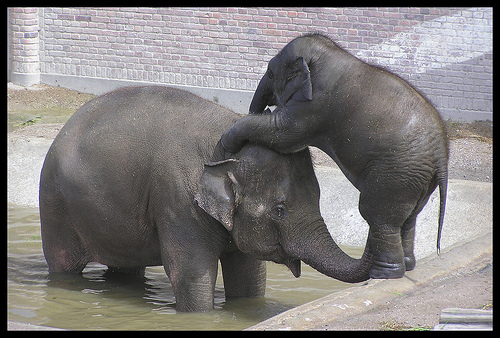elephant: (35, 77, 376, 313), (221, 29, 459, 280)
